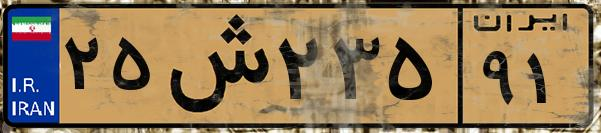1: (525, 38, 570, 115)
2: (270, 28, 330, 110), (57, 26, 110, 100)
3: (330, 28, 385, 110)
5: (385, 28, 445, 110), (110, 28, 158, 98)
9: (475, 38, 525, 113)
ش: (158, 12, 270, 120)
